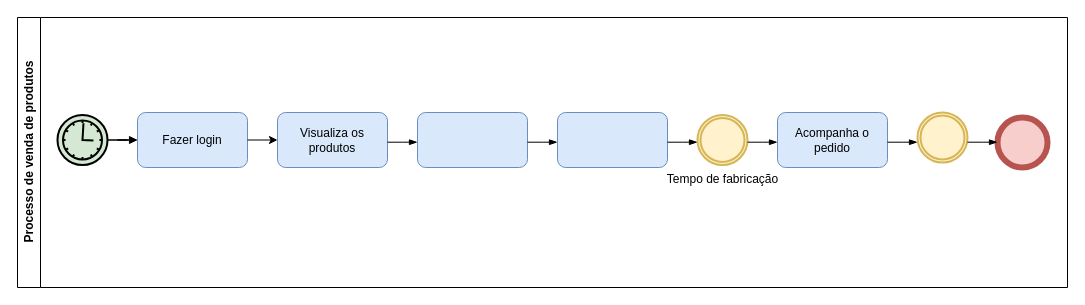
This 1085x305 diagram has some shape labels left out. Each missing label, with the centre of its shape:
"Finaliza a compra" goes at (612,140).
"Seleciona os produtos" goes at (472,140).
"Tempo de transporte" goes at (942,137).
